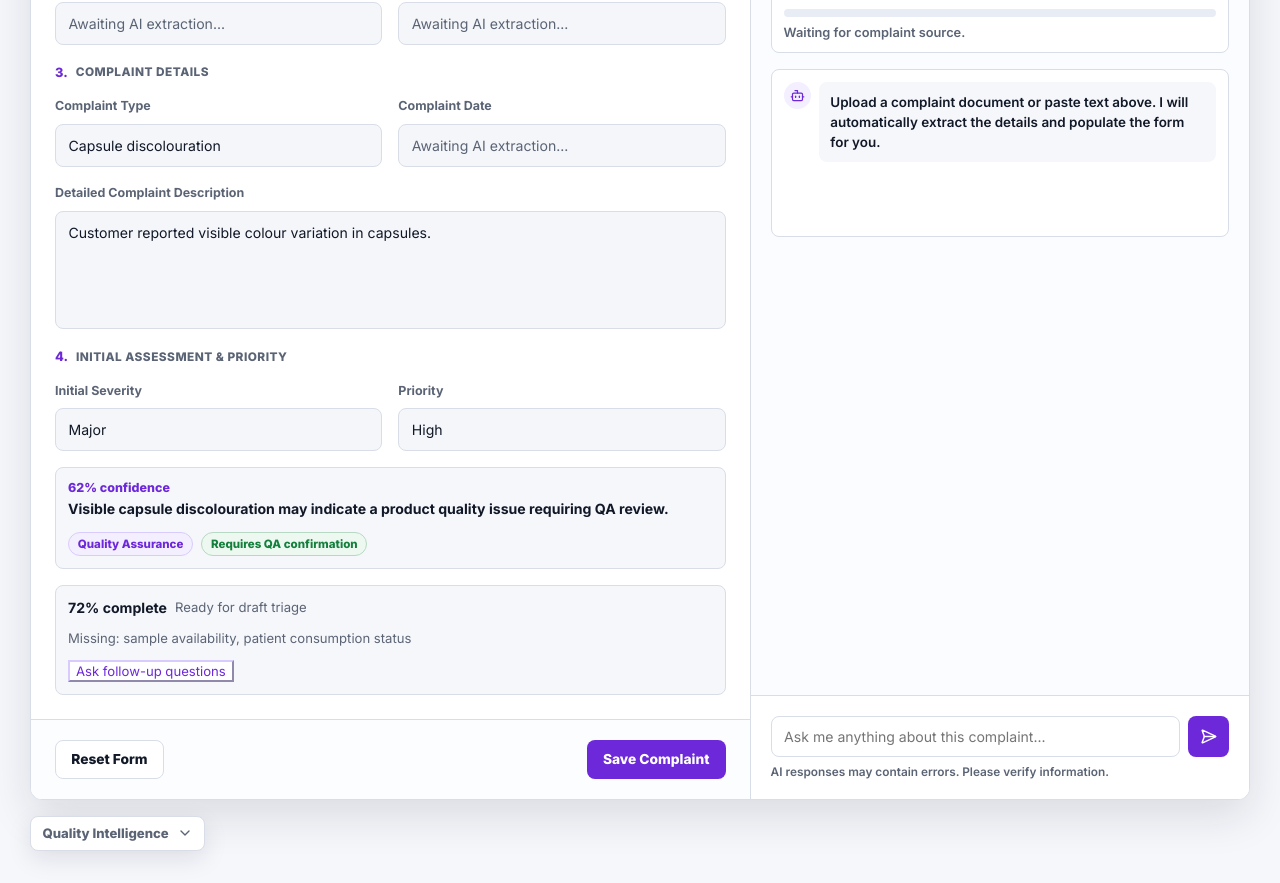
Test: App › save complaint opens review modal and saves from existing footer
(page scrolled)
Click the button with test id "complaint-save-button".
click(656, 759)  # box [587,740,726,779]
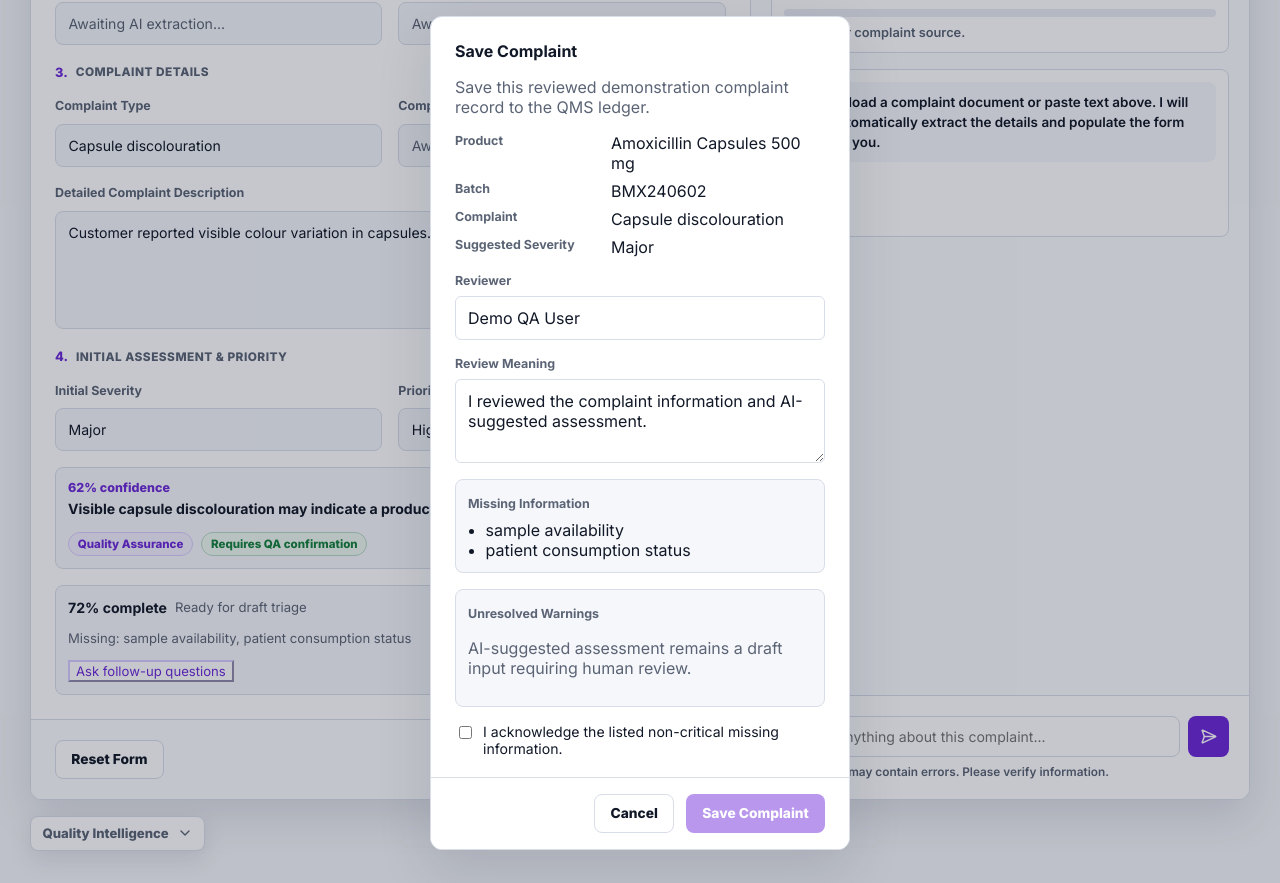
expect the text "Suggested Severity" is shown: met, box [455,237,575,252]
expect the list item "sample availability" is shown: met, box [486,520,624,540]
expect the button "Save Complaint" is disabled: met, box [686,794,825,833]
Click the checkbox labelled "I acknowledge the listed non-critical missing information.".
click(466, 732)  # box [459,726,472,739]
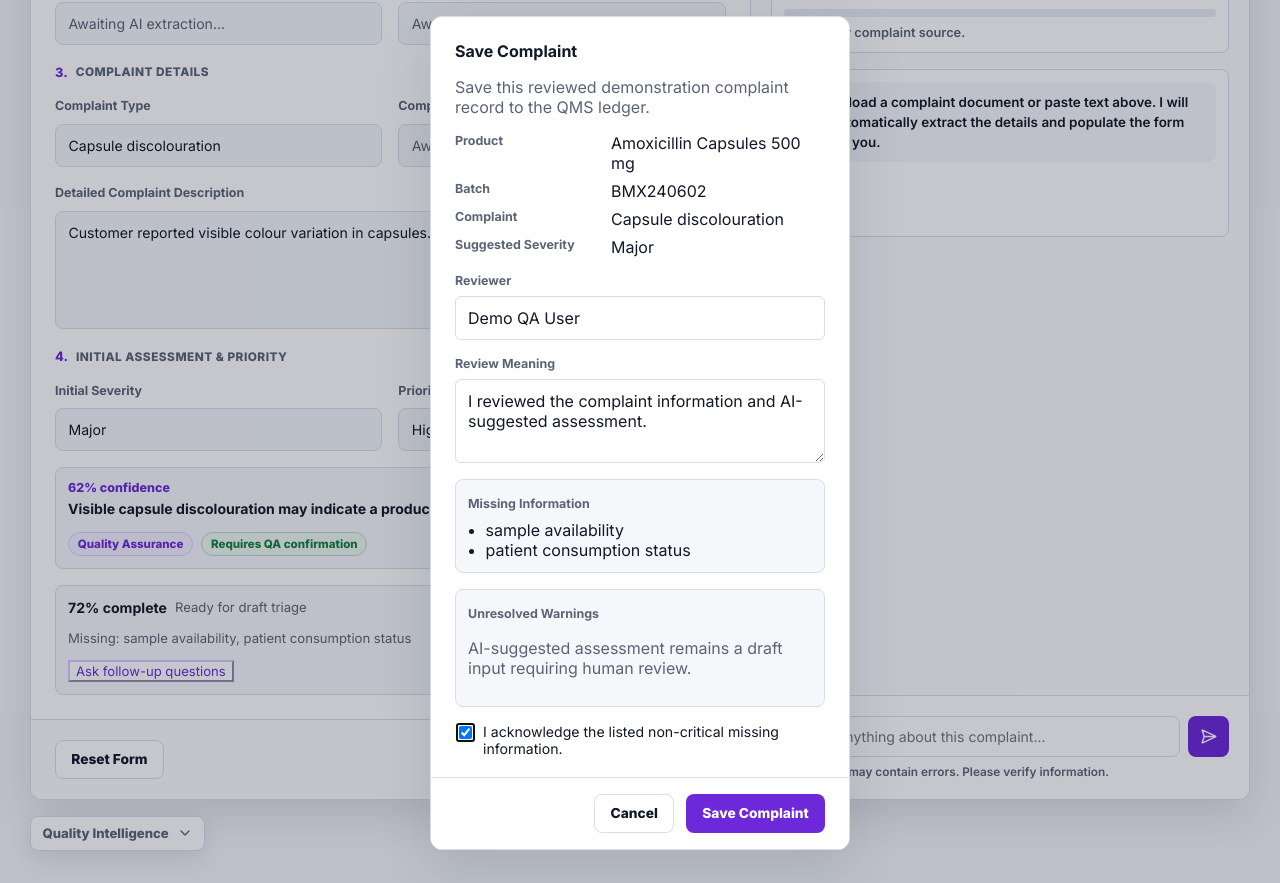
Click the button "Save Complaint".
click(756, 813)  # box [686,794,825,833]
(page scrolled)
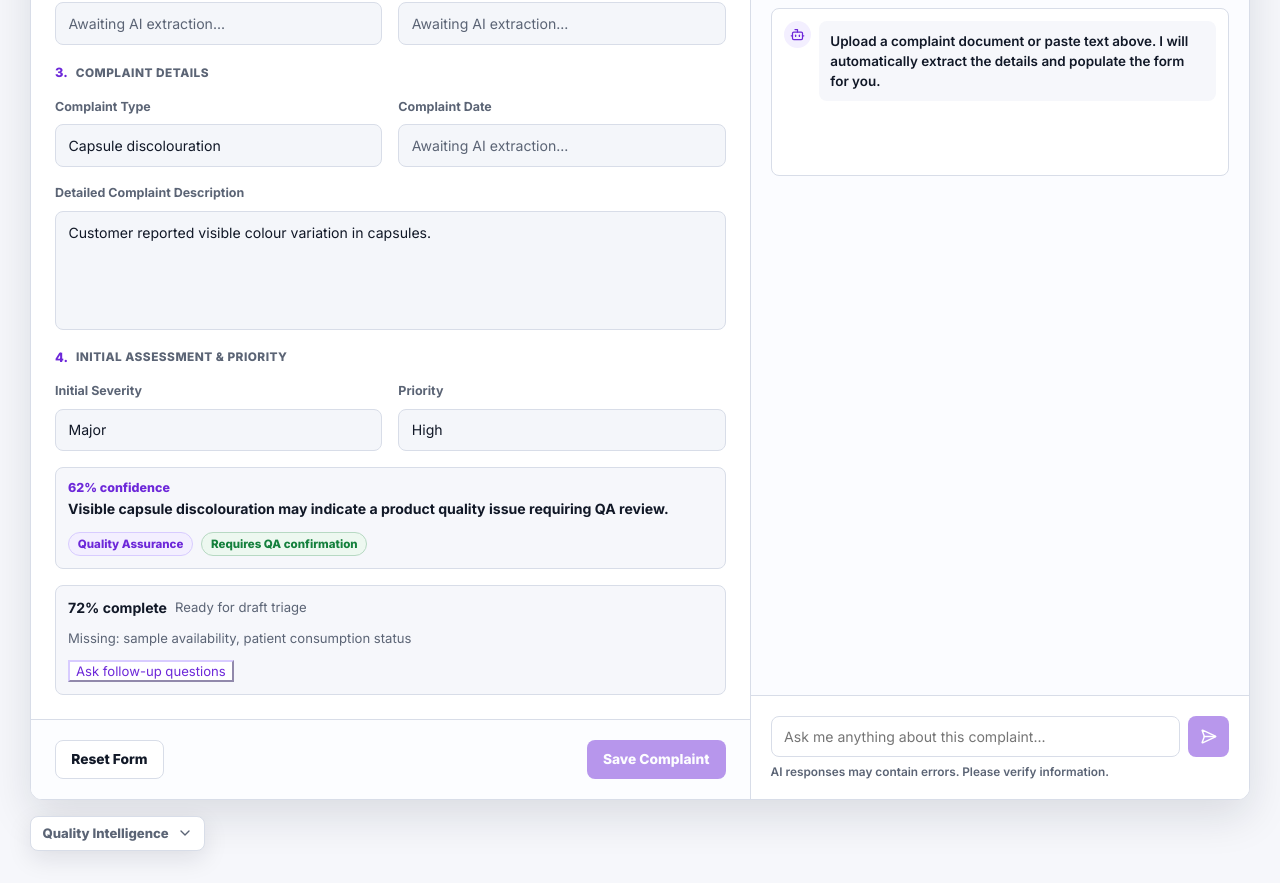
expect the field with test id "complaint-chat-input" is disabled: met, box [771,716,1180,757]
